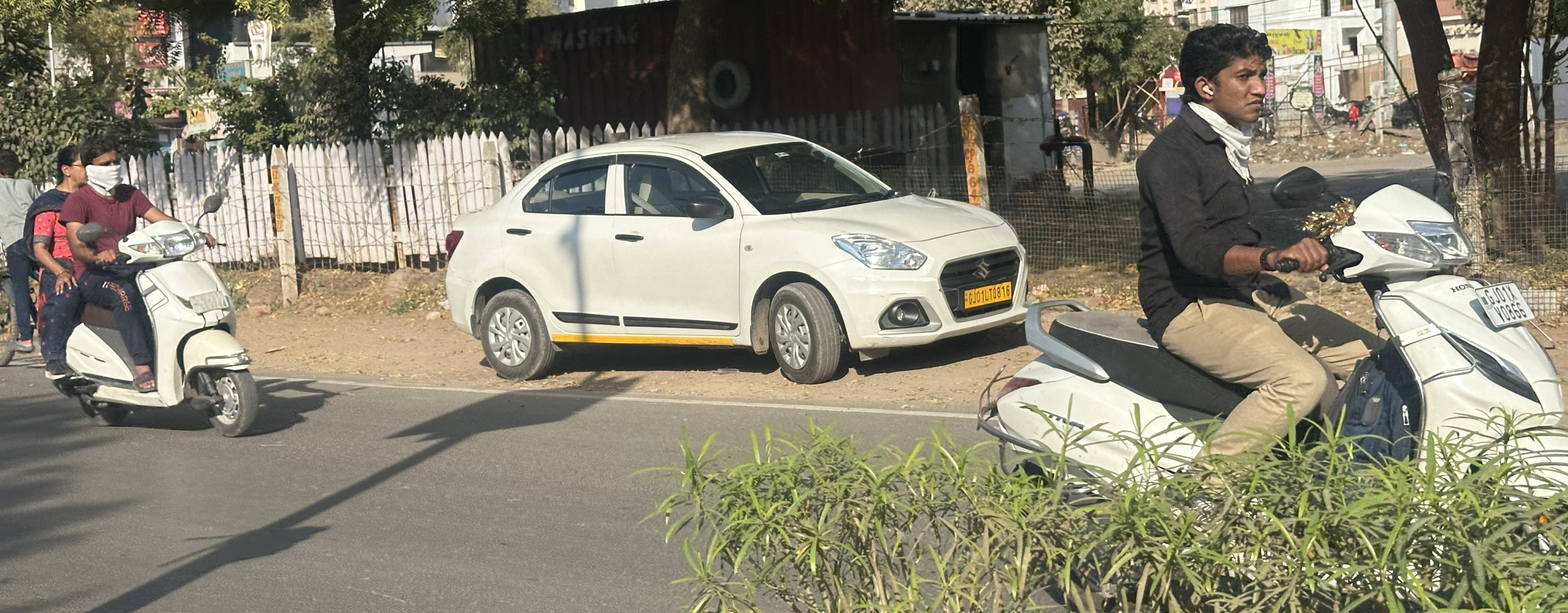BikeWithRider: (968, 17, 1568, 489), (15, 131, 280, 440)
NoHelmet: (1176, 23, 1277, 124), (86, 137, 133, 196), (50, 141, 91, 194)
